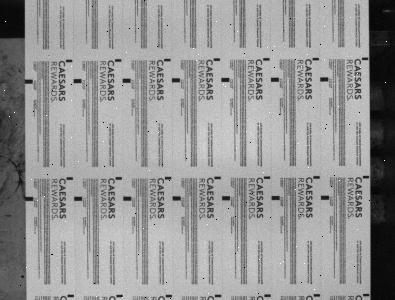qblock: (271, 77, 280, 82), (172, 78, 181, 83), (123, 196, 132, 201), (222, 196, 231, 201), (321, 195, 330, 200), (123, 78, 131, 83), (74, 196, 82, 201), (25, 79, 33, 84), (173, 196, 181, 201), (73, 79, 82, 83), (272, 196, 281, 200), (321, 77, 329, 81), (222, 78, 230, 82), (25, 197, 33, 201)
smallqblock: (165, 176, 172, 180), (165, 58, 171, 62), (67, 176, 73, 180), (116, 176, 122, 180), (364, 175, 370, 179), (264, 294, 272, 297), (66, 59, 73, 62), (214, 58, 221, 61), (264, 176, 271, 179), (362, 57, 369, 60), (313, 176, 320, 179), (215, 176, 222, 179), (67, 294, 74, 297), (166, 294, 173, 297), (215, 294, 222, 297), (314, 294, 321, 297), (116, 294, 123, 297), (115, 59, 122, 62), (264, 58, 270, 61), (364, 293, 370, 296), (313, 58, 320, 60)
